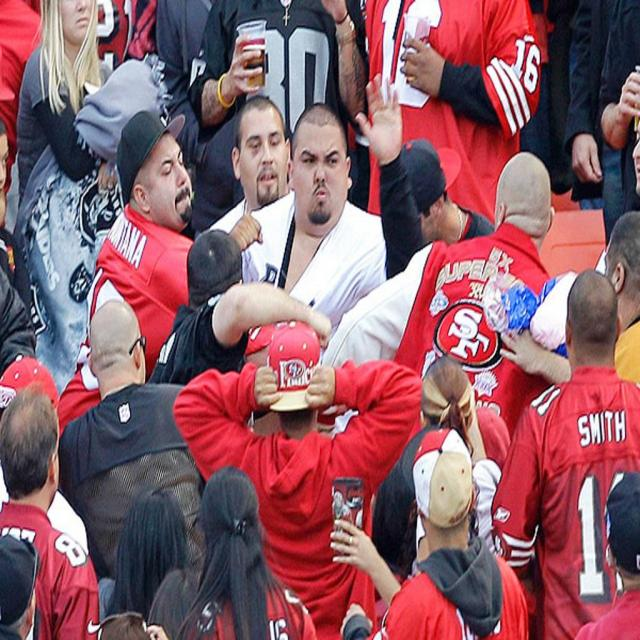nomask: (296, 120, 342, 225), (149, 148, 196, 223), (242, 118, 278, 191), (63, 0, 98, 41)
